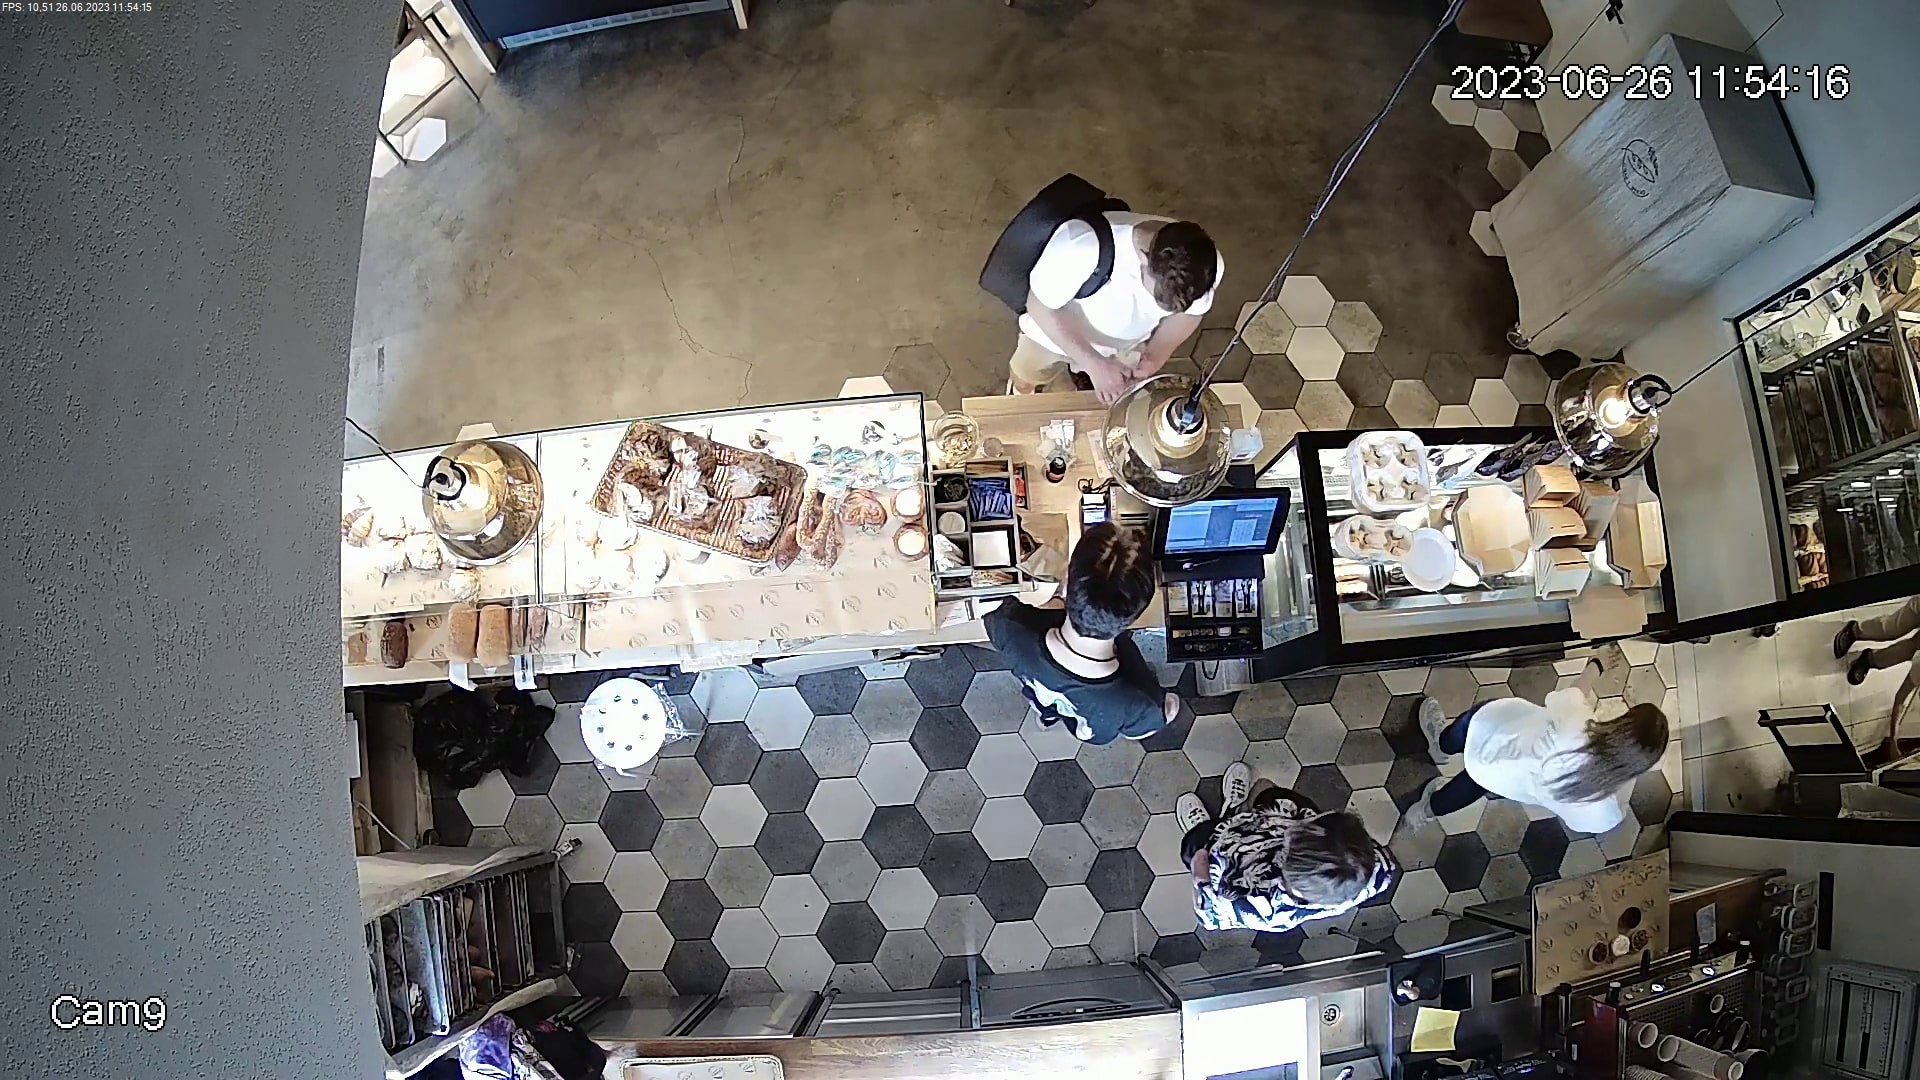barcounter: (361, 438, 1692, 651)
openedcash: (1154, 492, 1267, 664)
person: (978, 172, 1226, 382), (1413, 673, 1711, 841), (1158, 764, 1404, 929), (987, 539, 1180, 742)
